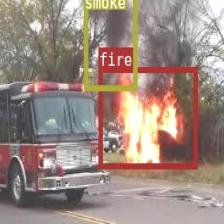fire: (98, 66, 196, 167)
smoke: (83, 0, 136, 89)
